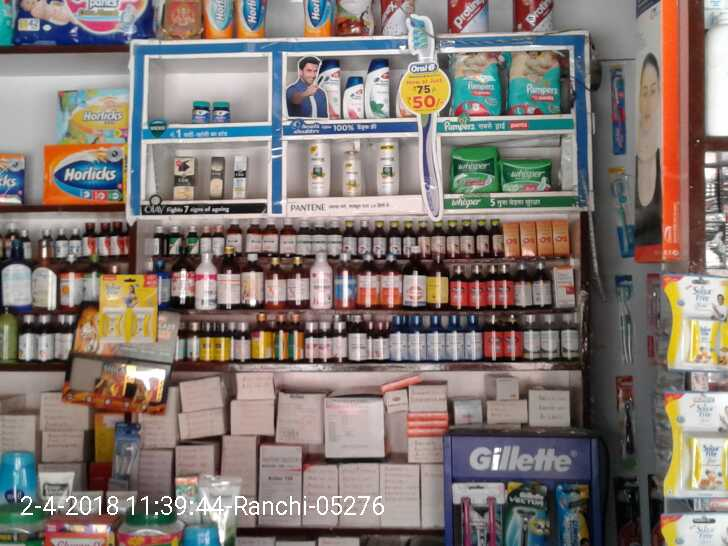vicks: (193, 100, 214, 122), (214, 101, 229, 122)
